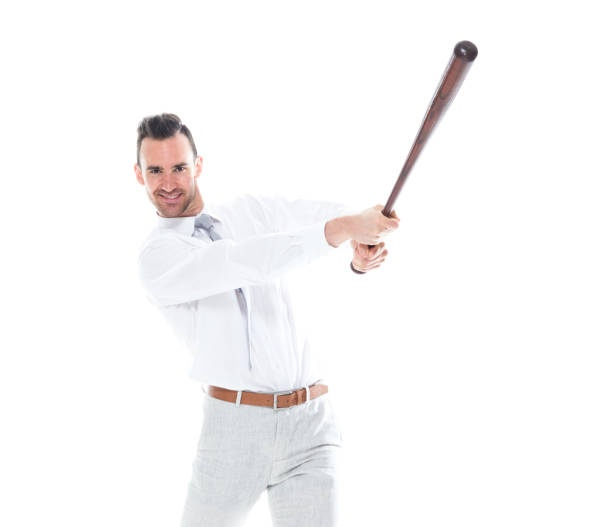bita: (378, 38, 474, 229)
